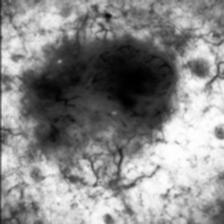Potentially Malignant Skin Tumors: (32, 42, 174, 184)
